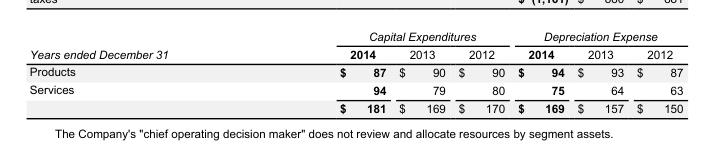table: (28, 29, 682, 114)
table column: (28, 29, 253, 114), (253, 29, 391, 114), (391, 29, 451, 114), (510, 29, 570, 114), (451, 29, 510, 114), (570, 29, 629, 114), (629, 29, 682, 114)
table column header: (28, 29, 682, 62)
table row: (28, 44, 682, 62), (28, 62, 682, 80), (28, 80, 682, 98), (28, 98, 682, 114), (28, 29, 682, 44)
table spanning cell: (28, 29, 253, 62), (253, 29, 510, 44), (510, 29, 682, 44)
